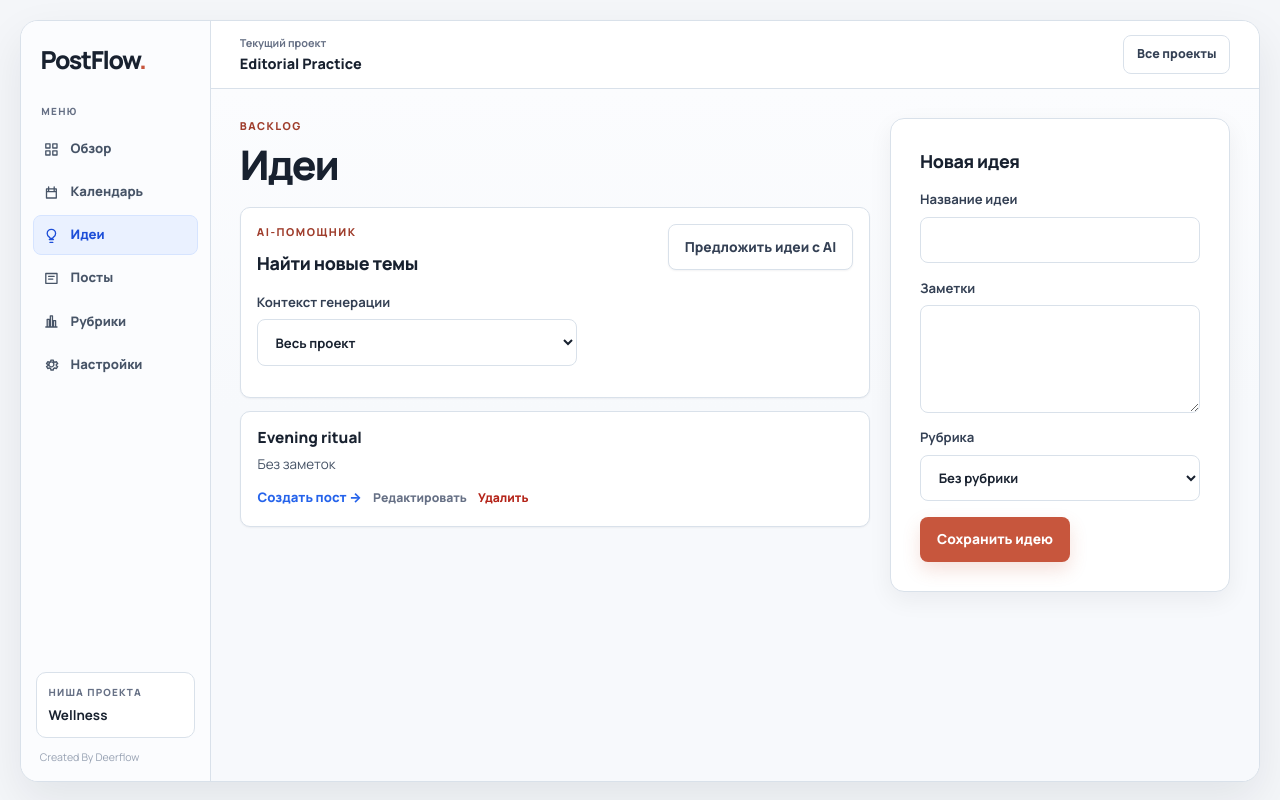
Test: idea deletion requires confirmation and displays a failed deletion
Click the button with aria-label "удалить идею". click: [503, 498]
box: [478, 486, 528, 510]
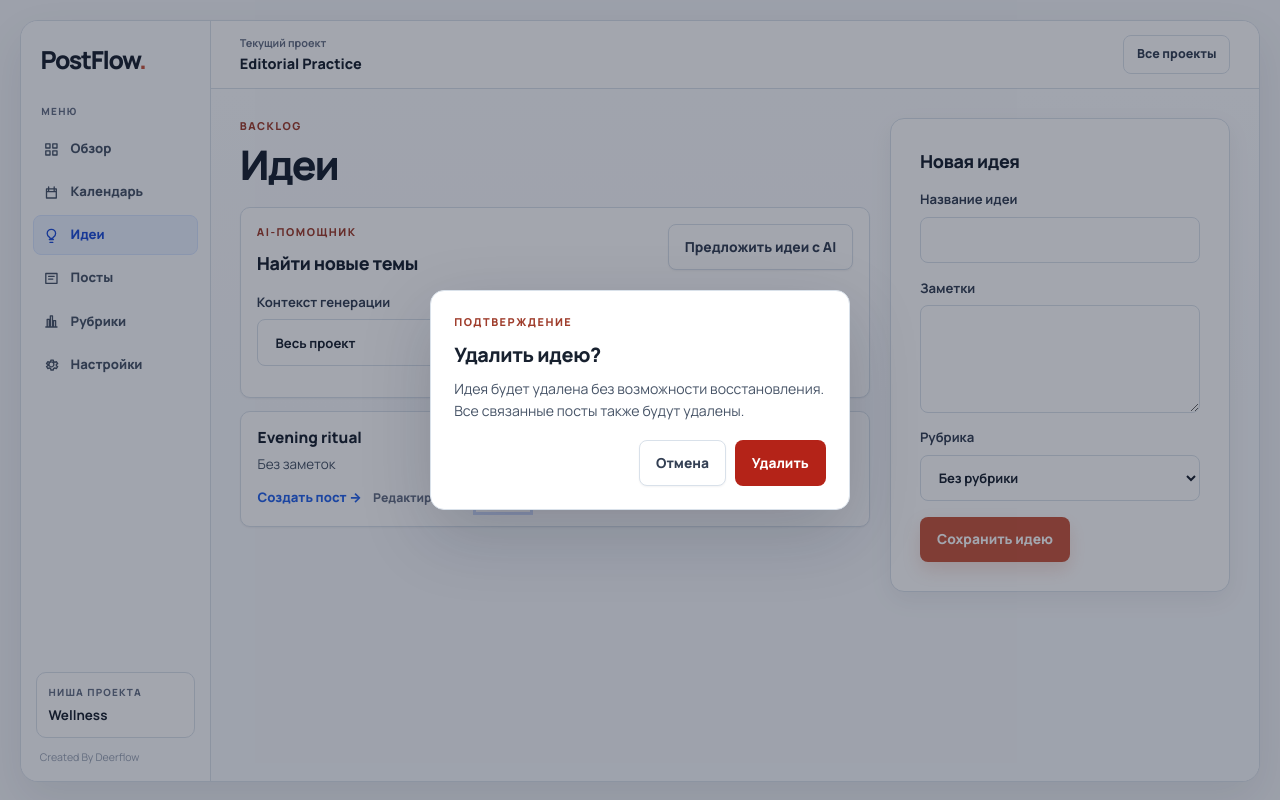
Result: the text "связанные посты" is shown at [454, 379, 824, 420]
Click the button "Отмена". click: [682, 463]
box: [639, 440, 726, 486]
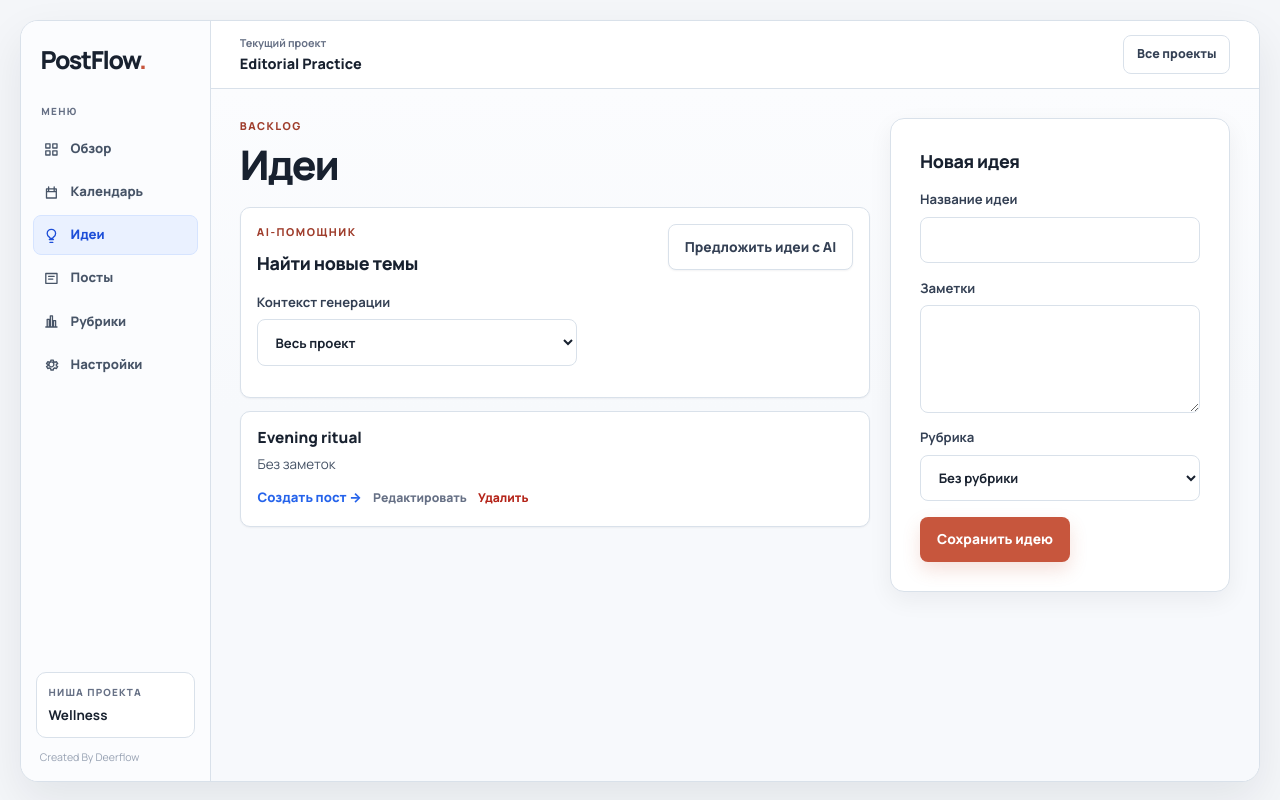
Result: the dialog is gone
Click the button with aria-label "удалить идею". click: [503, 498]
box: [478, 486, 528, 510]
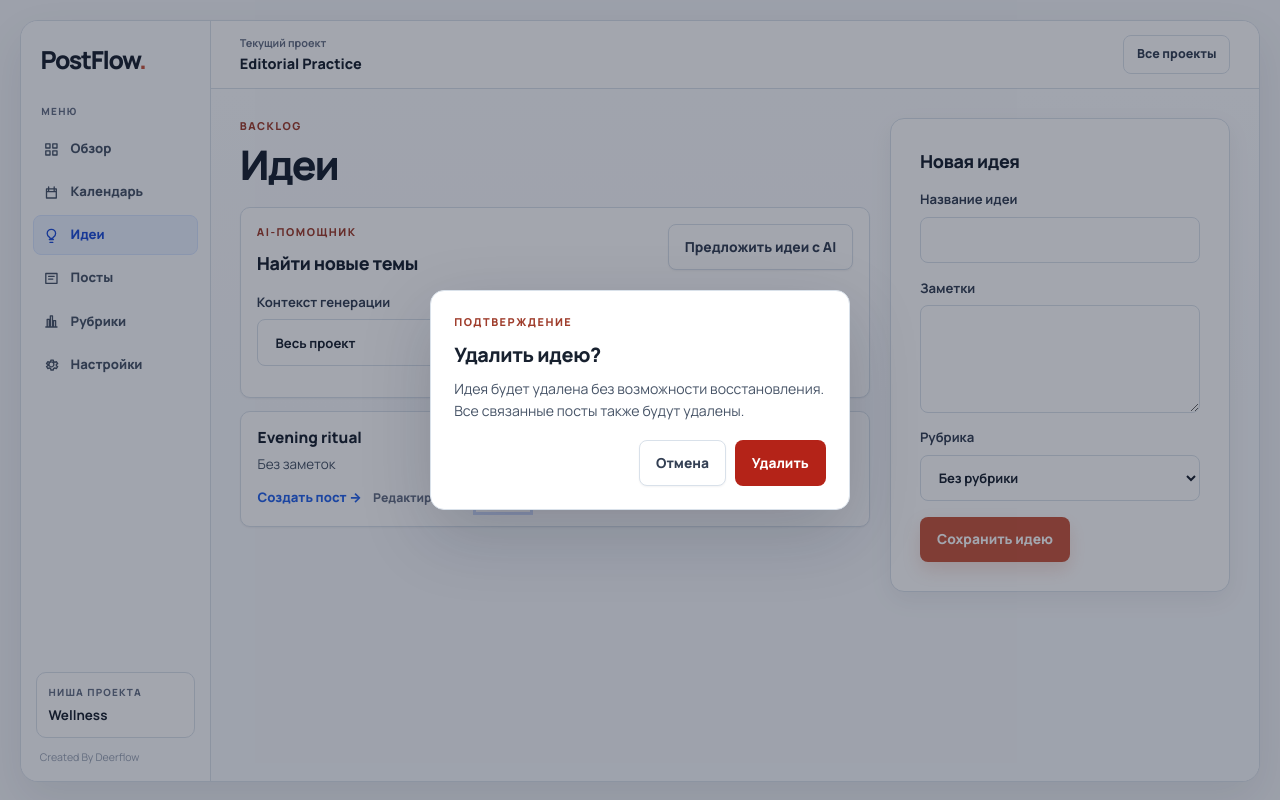
Click the button "Удалить". click: [780, 463]
box: [735, 440, 826, 486]
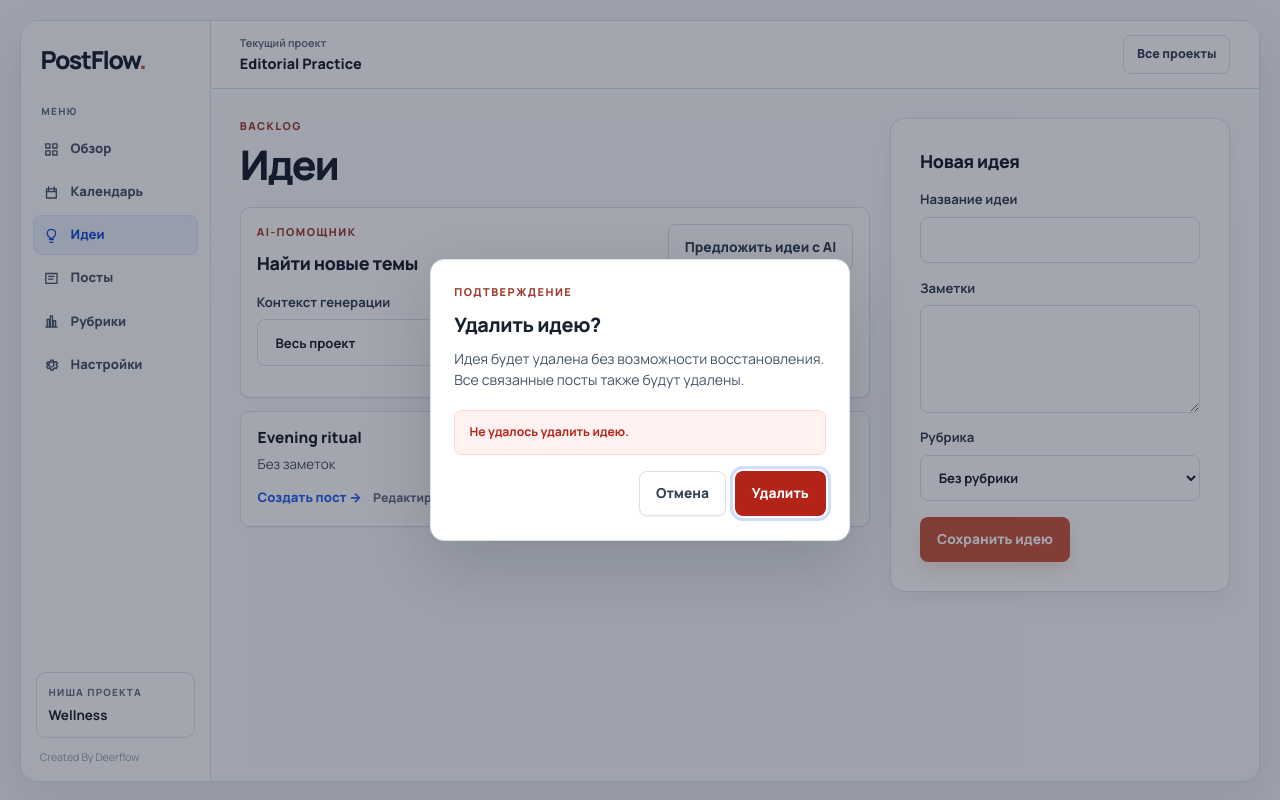
Result: the text "Не удалось удалить идею." is shown at [454, 410, 826, 455]
